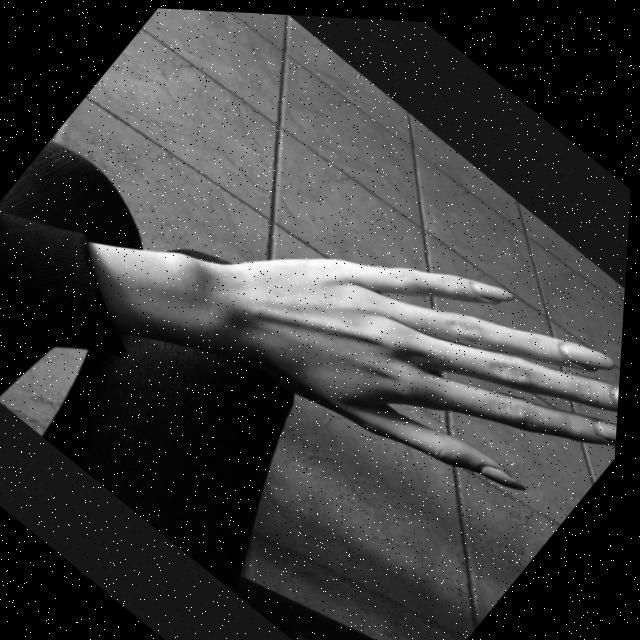no-gloves: (168, 108, 636, 576)
